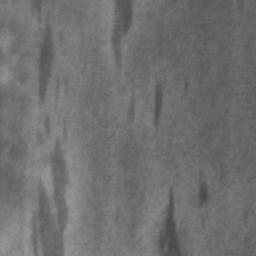Inclusion: (36, 140, 70, 256), (161, 188, 184, 256), (113, 0, 134, 63), (38, 24, 54, 100), (154, 84, 164, 127), (198, 182, 211, 206)
